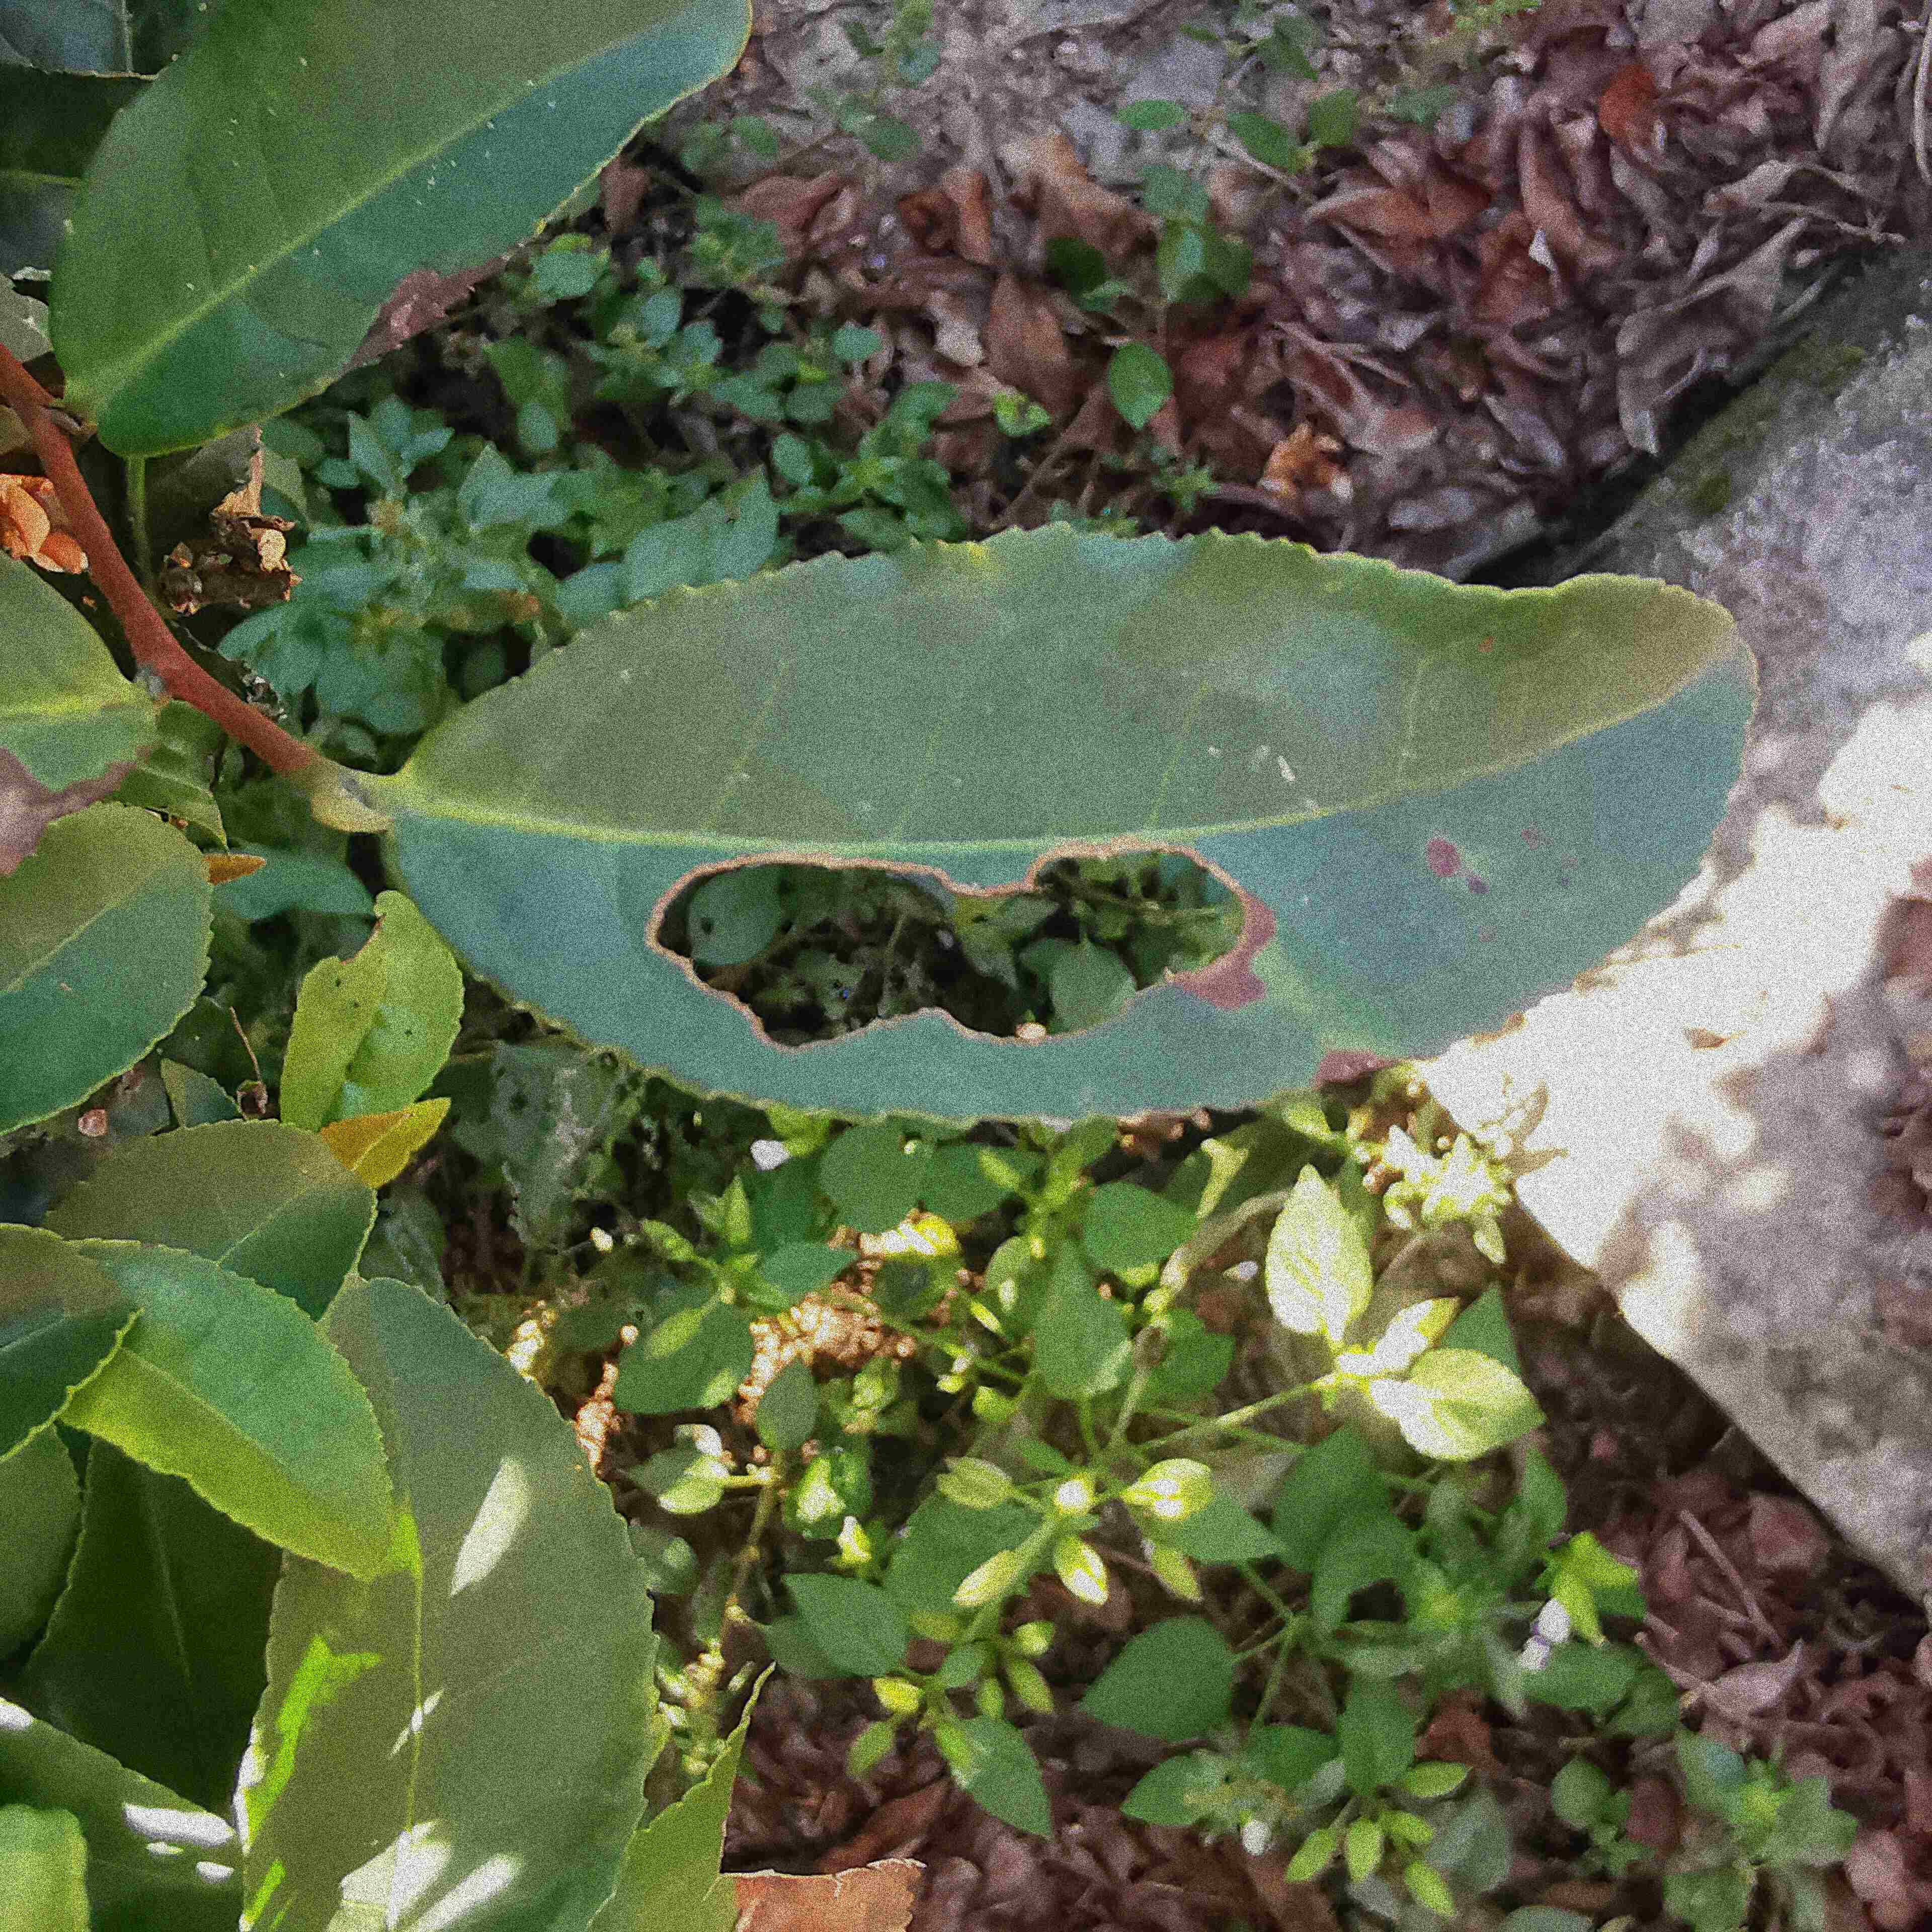chihuo_high: (379, 515, 1769, 1136)
tanju_high: (42, 4, 752, 458)
